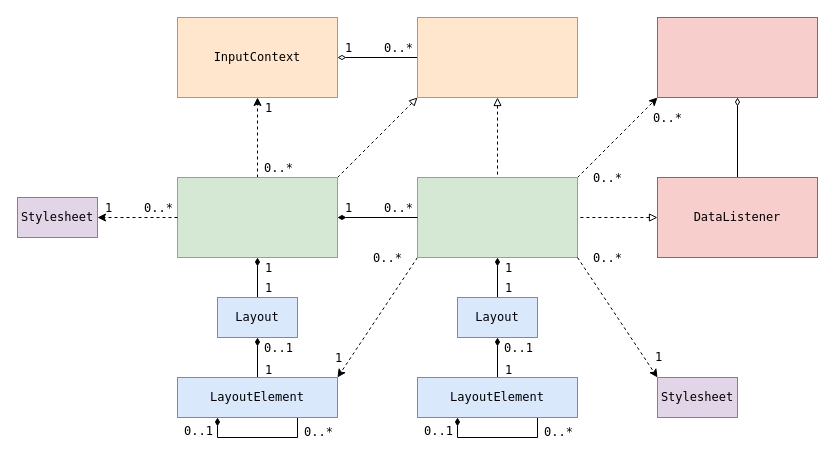
The diagram is 835 pixels wide and 463 high, and some of its shapes have lost their labels. The centre of each missing label's shape, as x and y in pixels:
"DataSource" goes at [737,57].
"InputElement" goes at [497,57].
"Panel" goes at [257,217].
"Widget" goes at [497,217].
